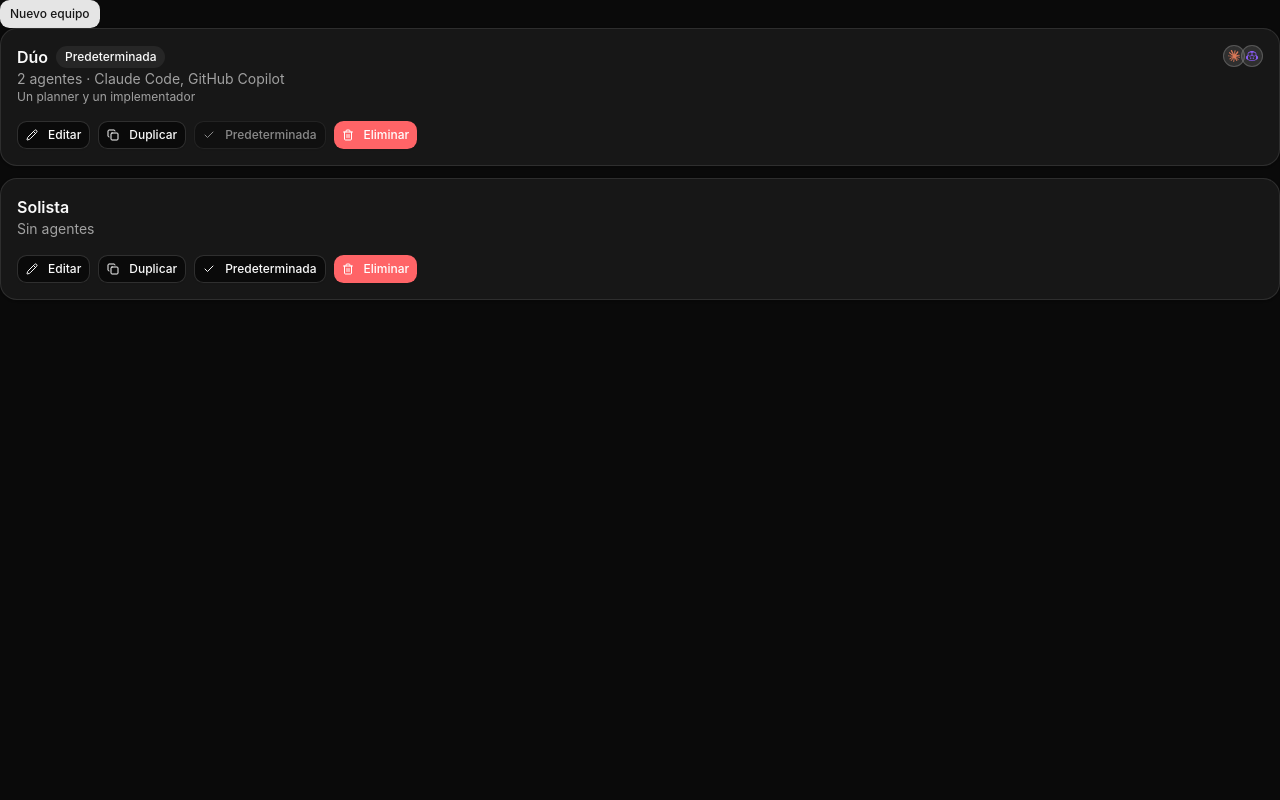
TeamsSection › opens the team dialog from the header action, which lives outside the body
This screenshot has width=1280, height=800.
Click the button "Nuevo equipo" at (50, 14), box [0, 0, 100, 28]
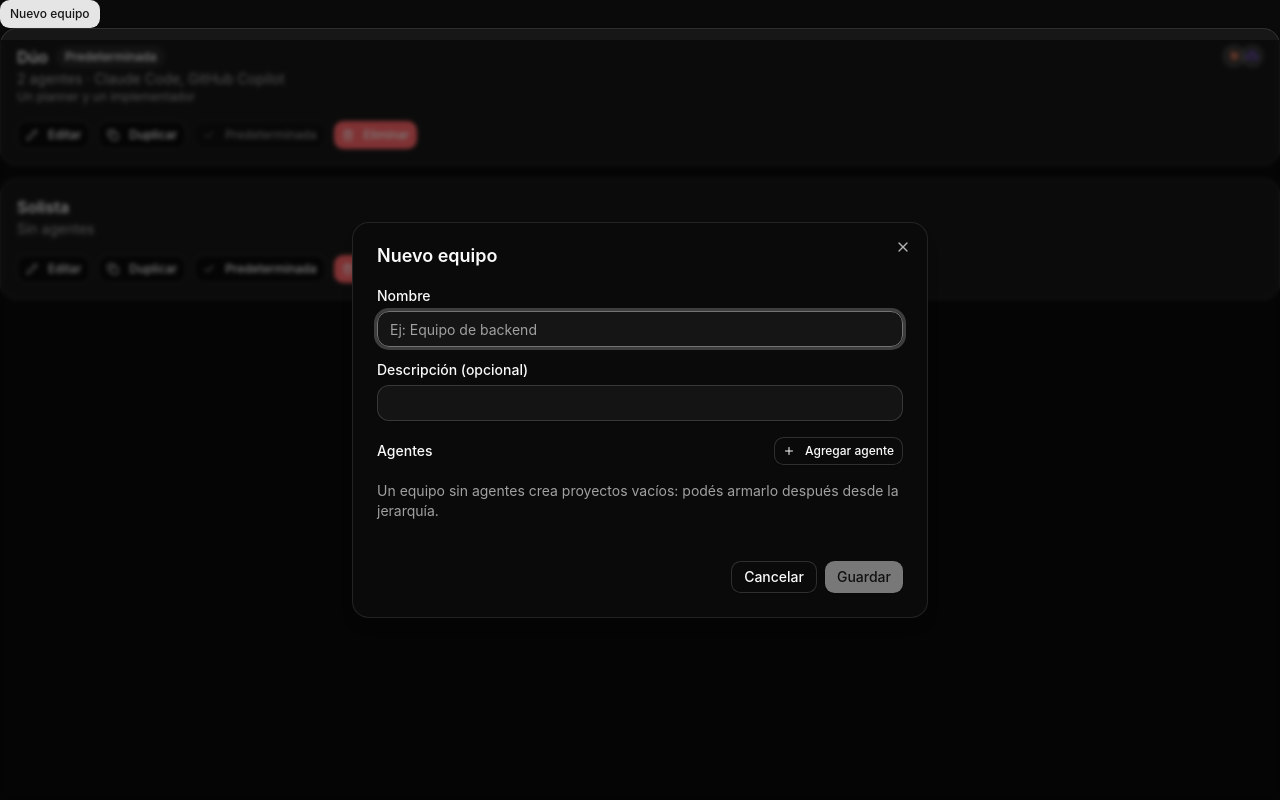
Result: the dialog shows "Nuevo equipo" at [377, 245, 498, 266]
